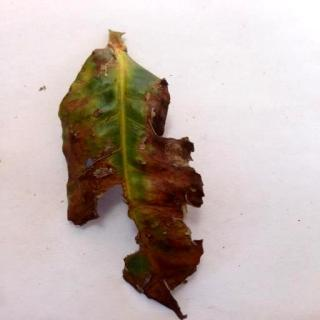Algal Leaf: (57, 31, 205, 320)
